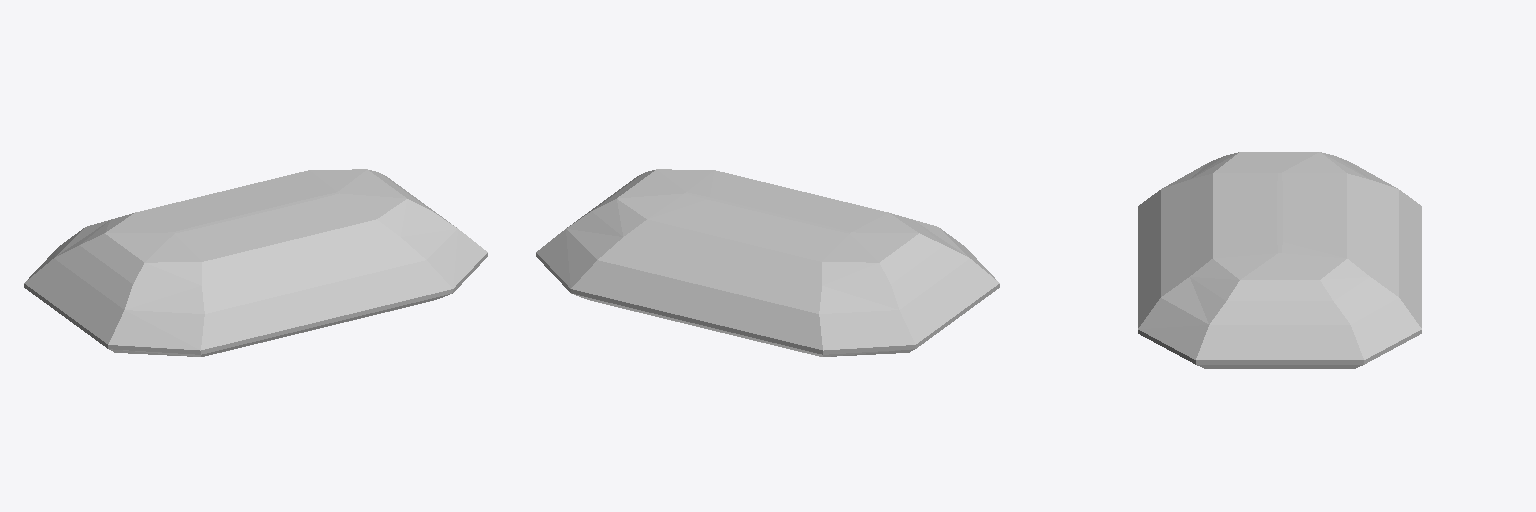
Rendered from emerald.obj.
3 views of the same model, side by side, from view 1: azimuth 30°, elevation 25°; view 2: azimuth 150°, elevation 25°; view 3: azimuth 270°, elevation 25° (orthographic).
Visible parts, largest first — view 1: Emeraldobj1; view 2: Emeraldobj1; view 3: Emeraldobj1.
Part boxes in pixels (left/top/right/bottom): Emeraldobj1: left=24, top=169, right=487, bottom=356; Emeraldobj1: left=536, top=169, right=999, bottom=356; Emeraldobj1: left=1138, top=152, right=1421, bottom=368.
Bounding box in the file's own units: 1.66 × 0.3589 × 1.07.